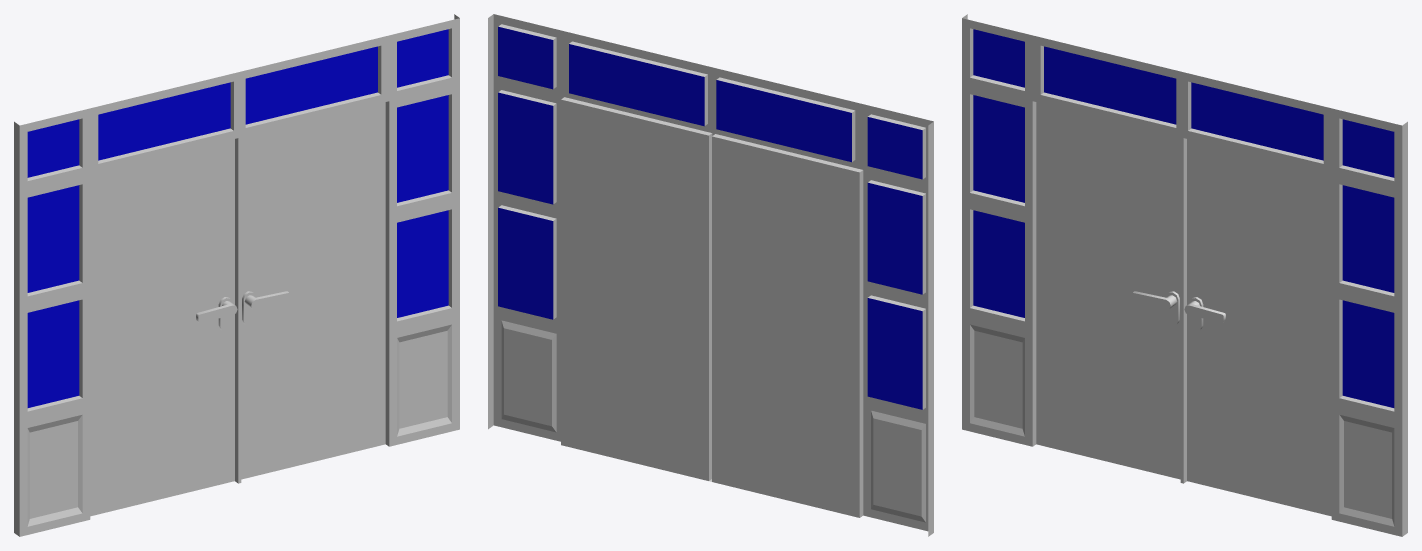
Rendered from FakeDoorWide.fbx.
The picture shows the model from 3 angles, left to right: view 1: azimuth 30°, elevation 25°; view 2: azimuth 150°, elevation 25°; view 3: azimuth 330°, elevation 25°; orthographic projection.
Visible parts, largest first — view 1: Cube.053; view 2: Cube.053; view 3: Cube.053.
Boxes of the visible parts, x1,y1,x2,y2 form: Cube.053: [14, 14, 459, 536]; Cube.053: [488, 14, 933, 536]; Cube.053: [962, 14, 1407, 536].
Bounding box in the file's own units: 2.8 × 2.5 × 0.1125.
